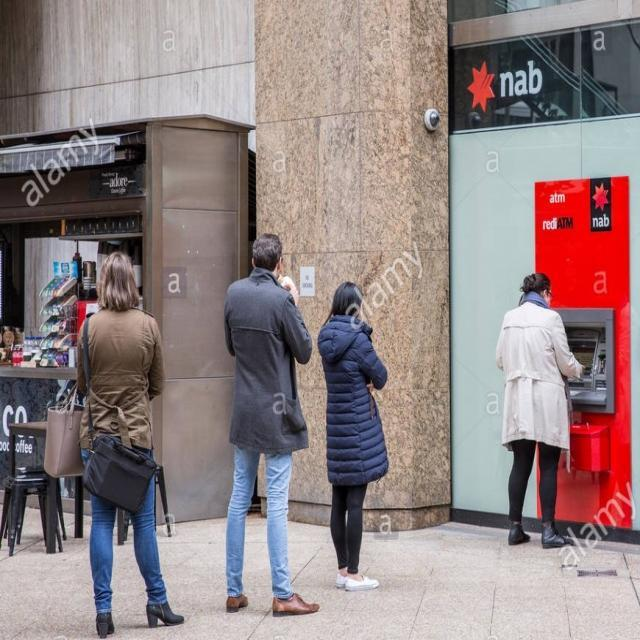person: (69, 244, 188, 640), (222, 229, 321, 621), (493, 270, 588, 550), (316, 279, 392, 592)
